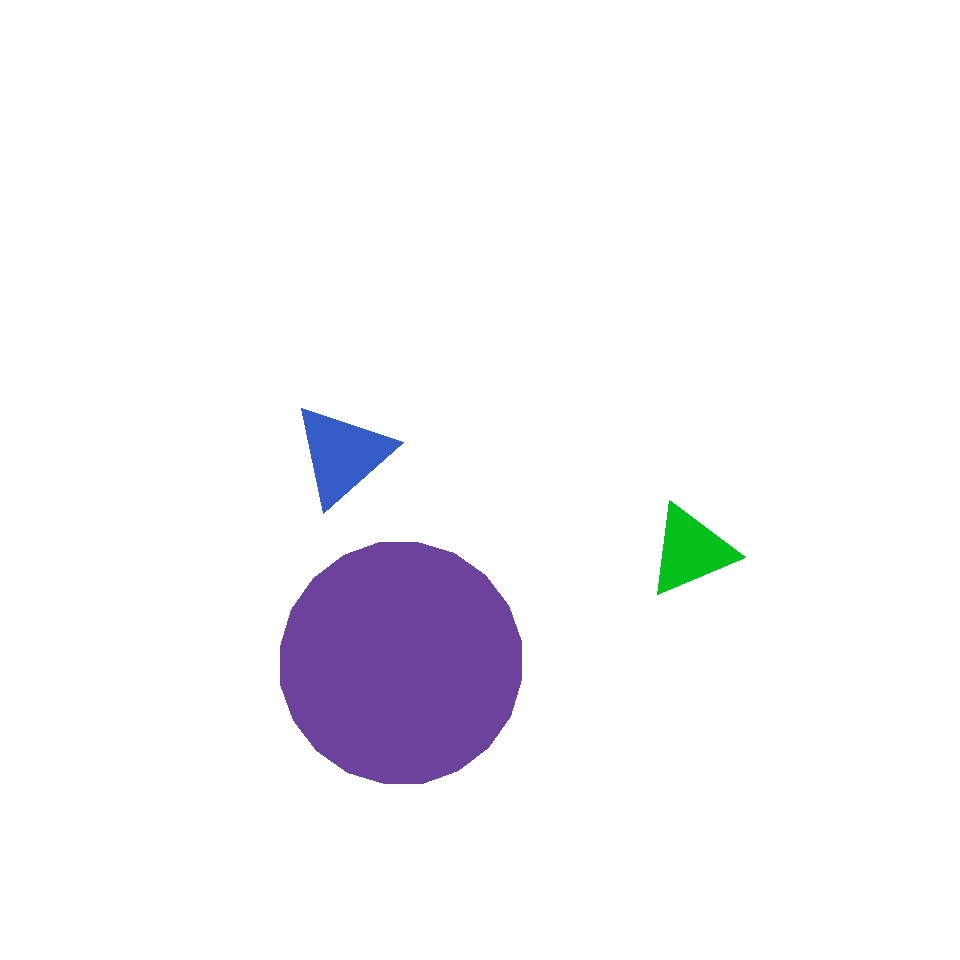circle: (238, 430, 562, 720), (292, 402, 394, 507), (647, 504, 735, 598)
square: (266, 190, 574, 498), (320, 332, 558, 570), (502, 246, 690, 436)
triangle: (256, 477, 594, 815), (281, 543, 522, 784)
